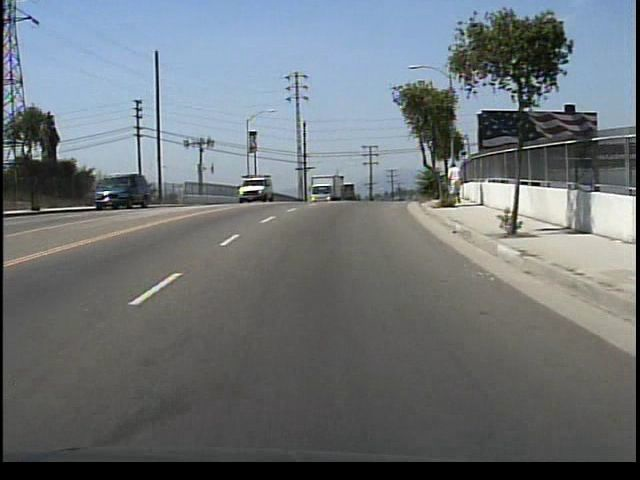person: (445, 160, 465, 207)
